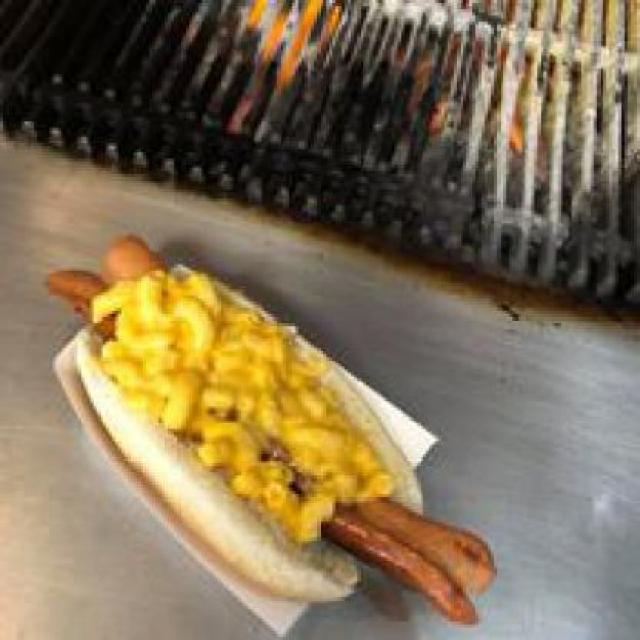hot dog: (311, 469, 497, 625), (34, 224, 161, 325)
macaroni and cheese: (99, 264, 395, 531)
